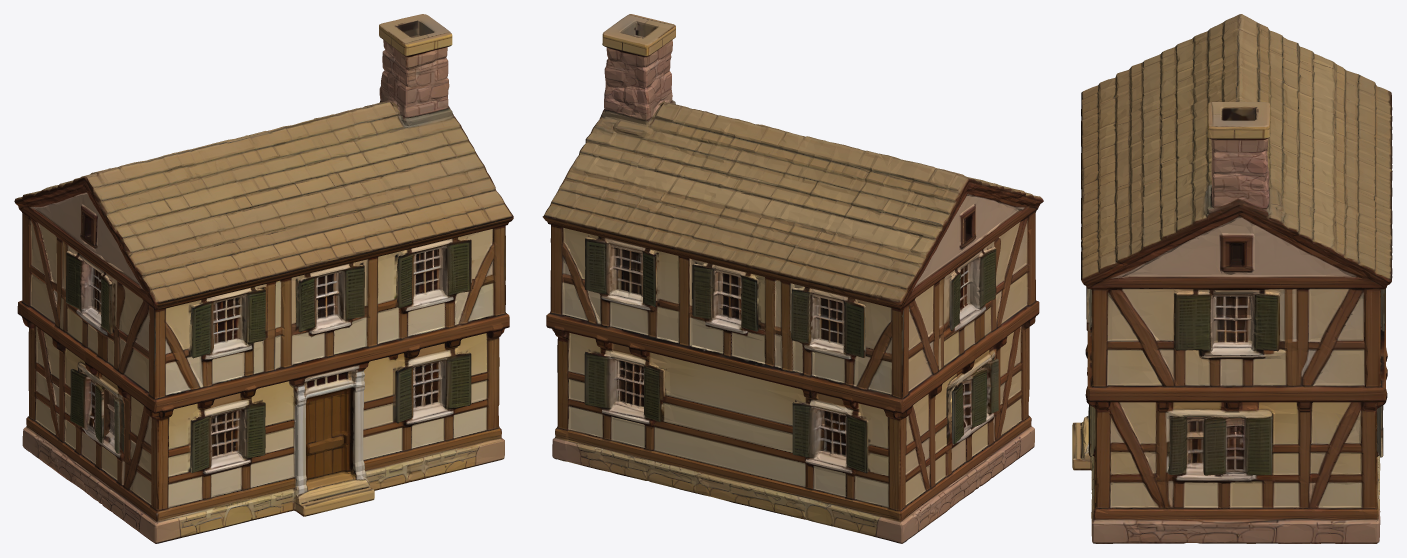
The model's file is house.glb.
3 views of the same model, side by side, from view 1: azimuth 30°, elevation 25°; view 2: azimuth 150°, elevation 25°; view 3: azimuth 270°, elevation 25° (orthographic). The views are drawn at different scales.
Visible parts, largest first — view 1: textured_mesh.obj; view 2: textured_mesh.obj; view 3: textured_mesh.obj.
Part boxes in pixels (bbox=[...]): textured_mesh.obj: bbox=[14, 14, 513, 543]; textured_mesh.obj: bbox=[542, 14, 1043, 543]; textured_mesh.obj: bbox=[1072, 14, 1392, 543].
Bounding box in the file's own units: 1.93 × 1.99 × 1.38.
Materials: 1 (1 with a texture image).
